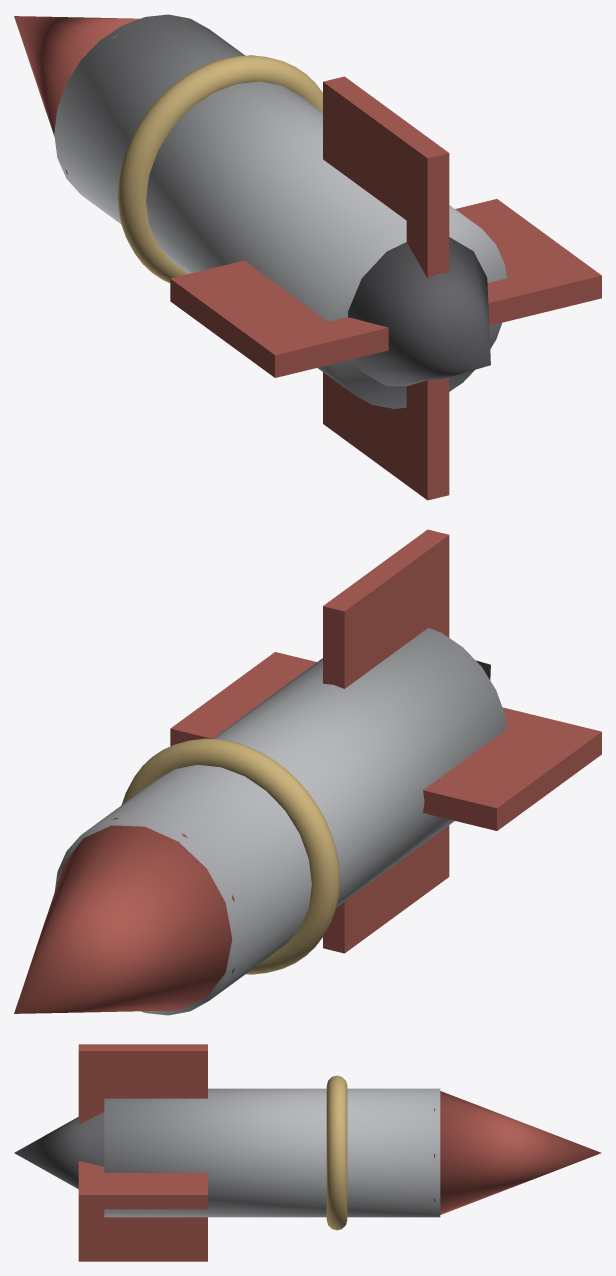
File: rocket.glb
3 renders of one model, top to bottom at view 1: azimuth 30°, elevation 25°; view 2: azimuth 150°, elevation 25°; view 3: azimuth 270°, elevation 25°, orthographic. The views are drawn at different scales.
Parts seen in each view (by area): view 1: Rocket; view 2: Rocket; view 3: Rocket.
Boxes of the visible parts, x1=… form: Rocket: x1=14, y1=14, x2=601, y2=500; Rocket: x1=14, y1=529, x2=601, y2=1015; Rocket: x1=14, y1=1044, x2=601, y2=1261.
Size of the model in its own units: 0.18 by 0.18 by 0.455.
